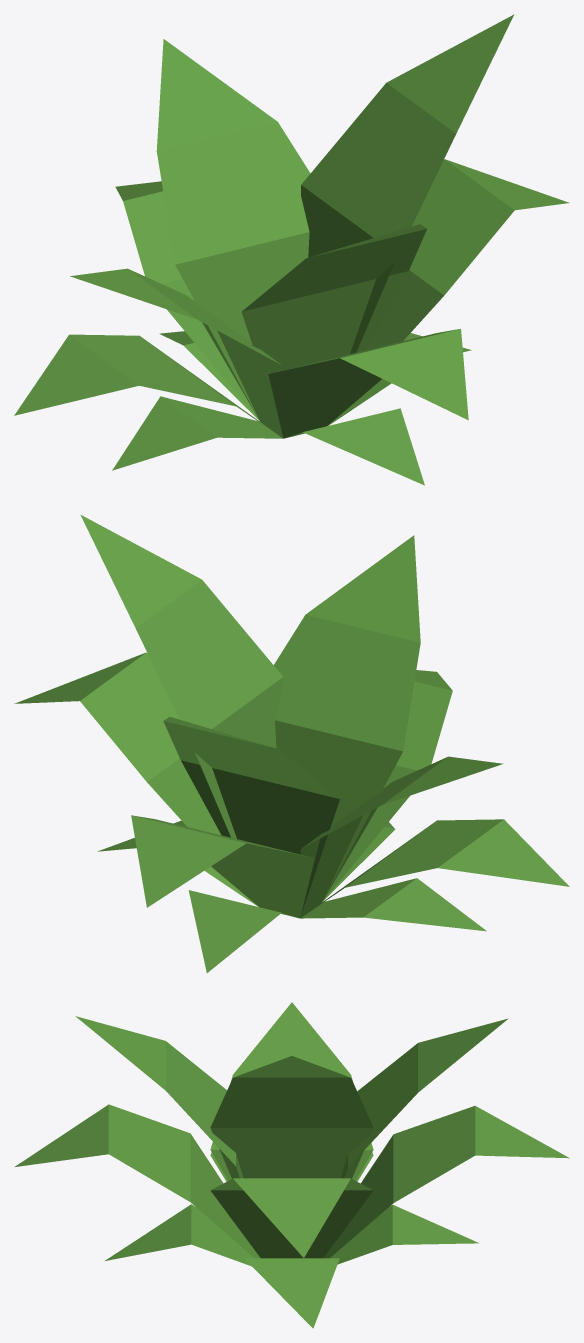
The model's file is bush-2.glb.
The picture shows the model from 3 angles, top to bottom: view 1: azimuth 30°, elevation 25°; view 2: azimuth 150°, elevation 25°; view 3: azimuth 270°, elevation 25°; orthographic projection. The views are drawn at different scales.
Parts seen in each view (by area): view 1: plant_bushDetailed; view 2: plant_bushDetailed; view 3: plant_bushDetailed.
Part boxes in pixels (left/top/right/bottom): plant_bushDetailed: left=14, top=14, right=569, bottom=485; plant_bushDetailed: left=14, top=514, right=569, bottom=972; plant_bushDetailed: left=14, top=1002, right=569, bottom=1328.
Bounding box in the file's own units: 1.17 × 0.6999 × 1.17.
